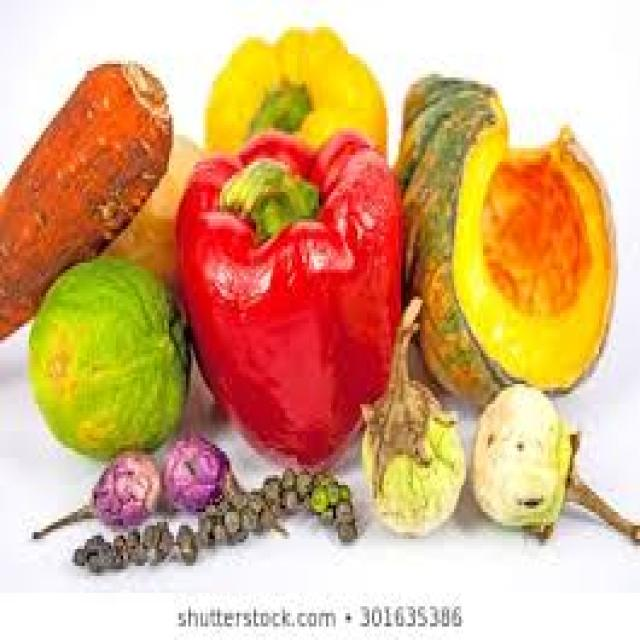biodegradable: (171, 121, 406, 465), (396, 67, 614, 401), (0, 51, 167, 334), (27, 253, 186, 462), (70, 462, 357, 570), (469, 381, 638, 536), (201, 27, 387, 158), (360, 293, 461, 532), (99, 132, 198, 277), (159, 428, 285, 532), (29, 448, 159, 536)
